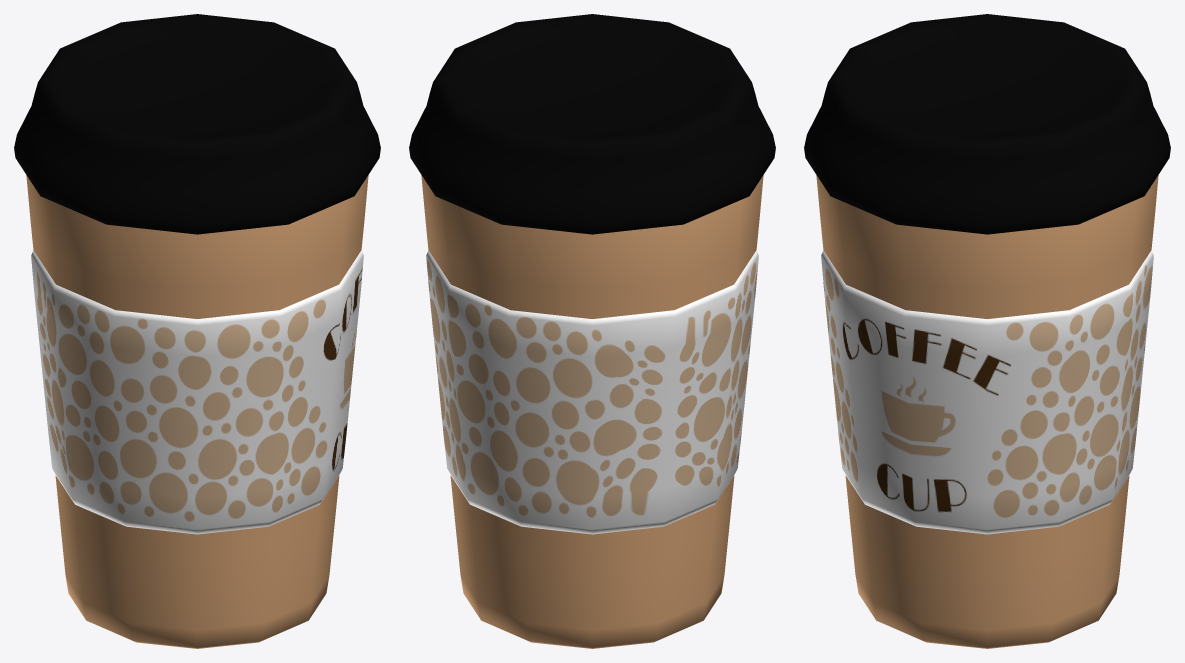
Rendered from Coffe_Cup.fbx.
3 views of the same model, side by side, from view 1: azimuth 30°, elevation 25°; view 2: azimuth 150°, elevation 25°; view 3: azimuth 270°, elevation 25° (orthographic).
Visible parts, largest first — view 1: Cup_Ring, Cylinder.018, Coffee_Cup; view 2: Cup_Ring, Cylinder.018, Coffee_Cup; view 3: Cup_Ring, Cylinder.018, Coffee_Cup.
Part boxes in pixels (box(x1,y1,x2,y2)): Cup_Ring: box(31, 250, 363, 534); Cylinder.018: box(14, 14, 380, 234); Coffee_Cup: box(26, 175, 368, 648); Cup_Ring: box(426, 250, 758, 534); Cylinder.018: box(409, 14, 775, 234); Coffee_Cup: box(421, 175, 763, 648); Cup_Ring: box(821, 250, 1153, 534); Cylinder.018: box(804, 14, 1170, 234); Coffee_Cup: box(816, 175, 1158, 648).
Bounding box in the file's own units: 10.4 × 16.34 × 10.44.
